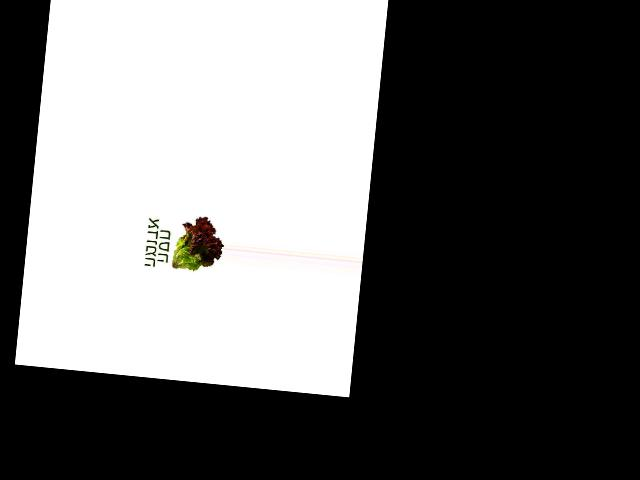lettuce: (169, 212, 226, 279)
